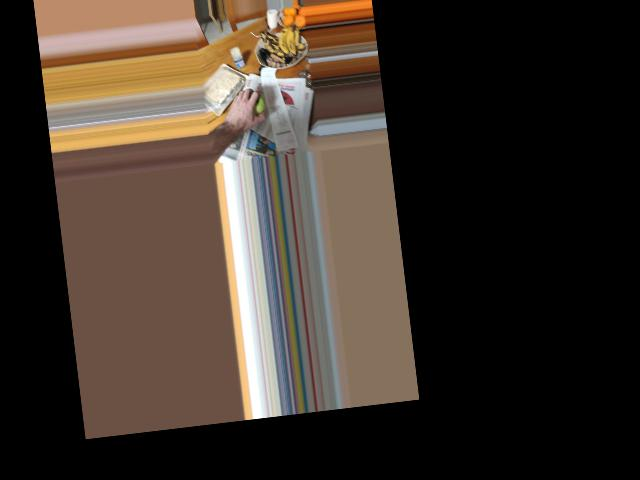apple: (238, 90, 266, 120)
